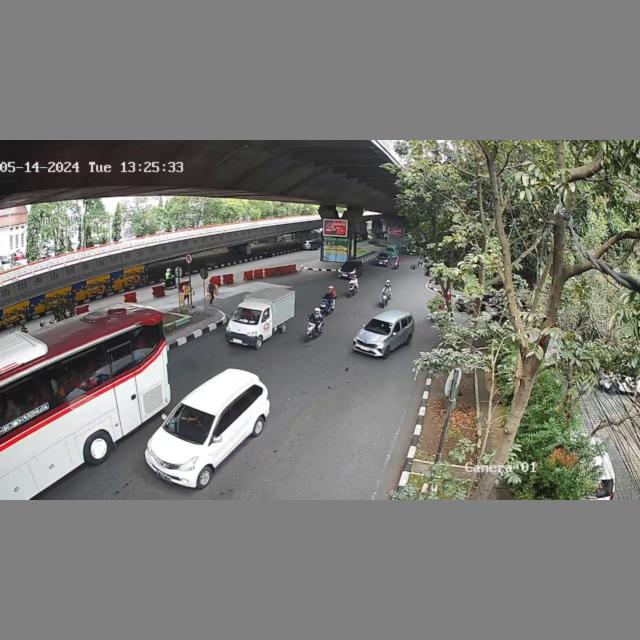windshield: (163, 401, 218, 445), (231, 306, 263, 328), (363, 317, 392, 334)
